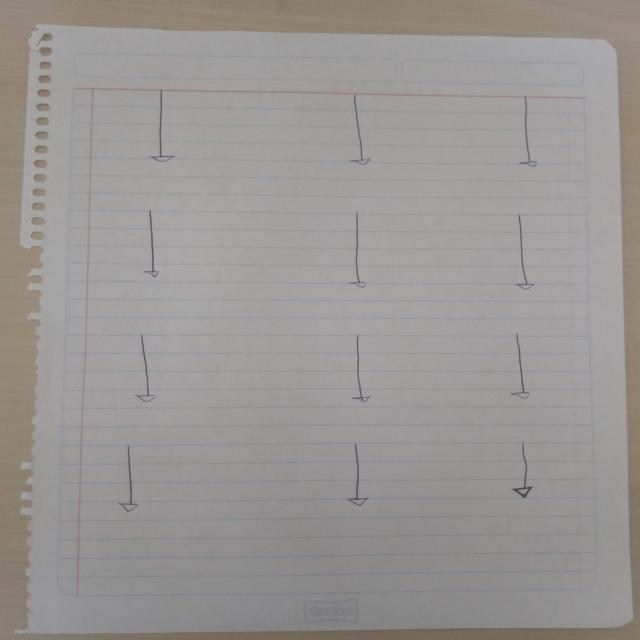arrow_line_down: (104, 445, 155, 530), (140, 88, 188, 168), (505, 215, 542, 296), (346, 89, 382, 169), (339, 332, 380, 402), (341, 440, 382, 510), (510, 94, 543, 172), (505, 332, 539, 402), (127, 334, 160, 406), (507, 438, 544, 500), (138, 205, 166, 286), (342, 211, 369, 288)
